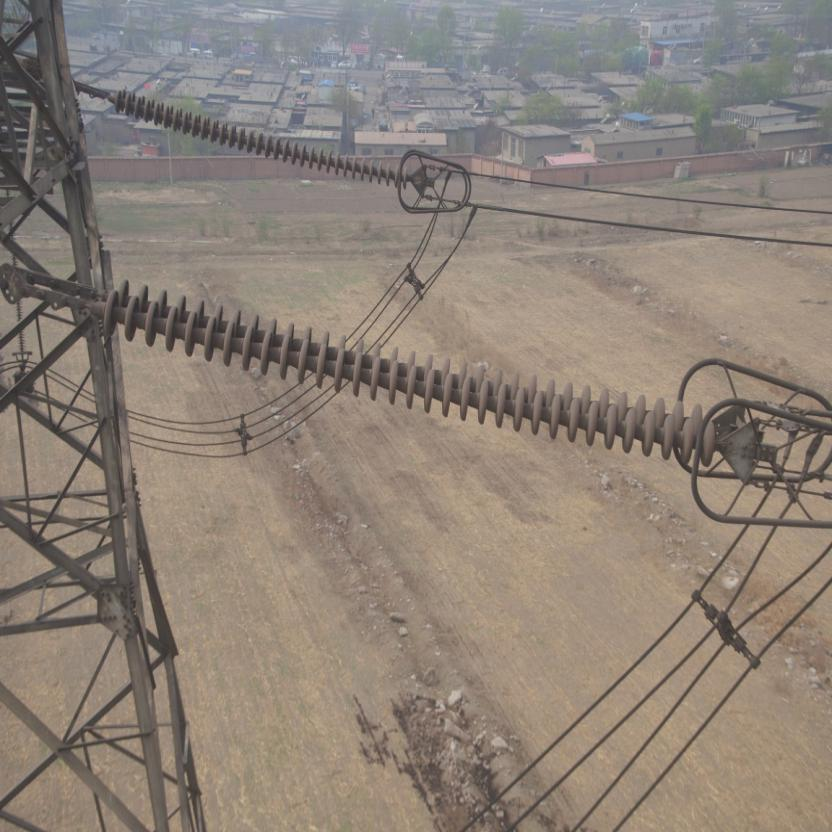insulator: (57, 272, 738, 469), (92, 82, 419, 191)
